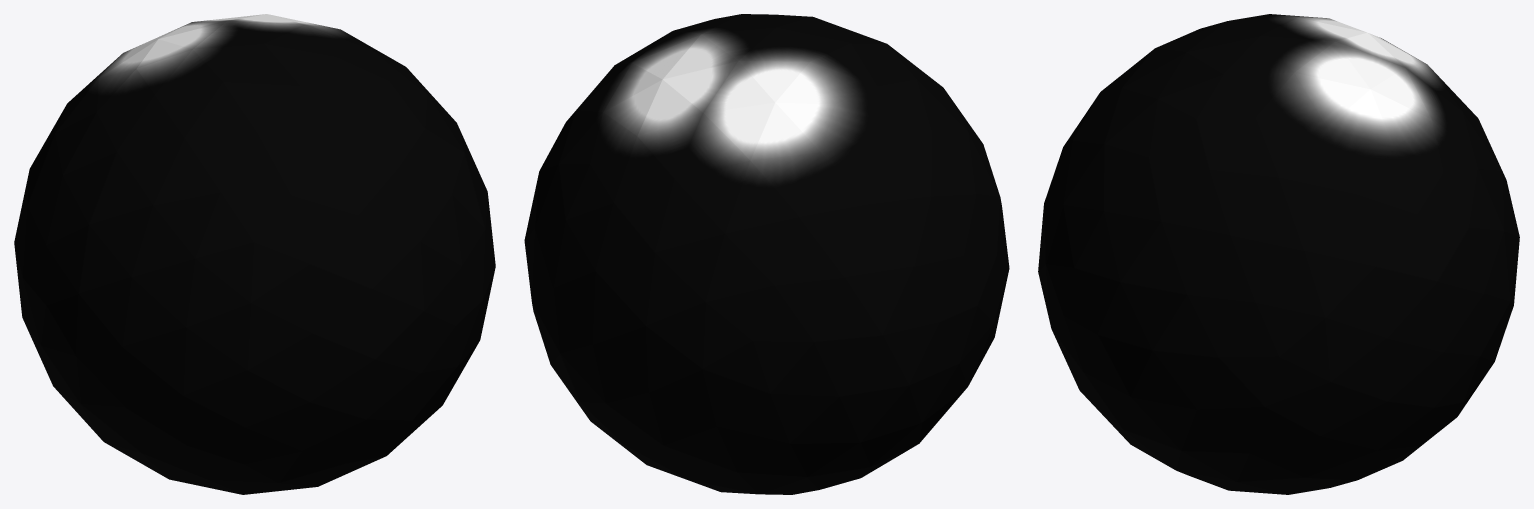
Rendered from ballwalk.fbx.
3 views of the same model, side by side, from view 1: azimuth 30°, elevation 25°; view 2: azimuth 150°, elevation 25°; view 3: azimuth 270°, elevation 25° (orthographic).
Parts seen in each view (by area): view 1: Icosphere; view 2: Icosphere; view 3: Icosphere.
Part boxes in pixels (box(x1,y1,x2,y2)): Icosphere: box(14, 14, 495, 494); Icosphere: box(524, 14, 1009, 494); Icosphere: box(1038, 14, 1519, 494).
Size of the model in its own units: 200 by 199 by 199.
